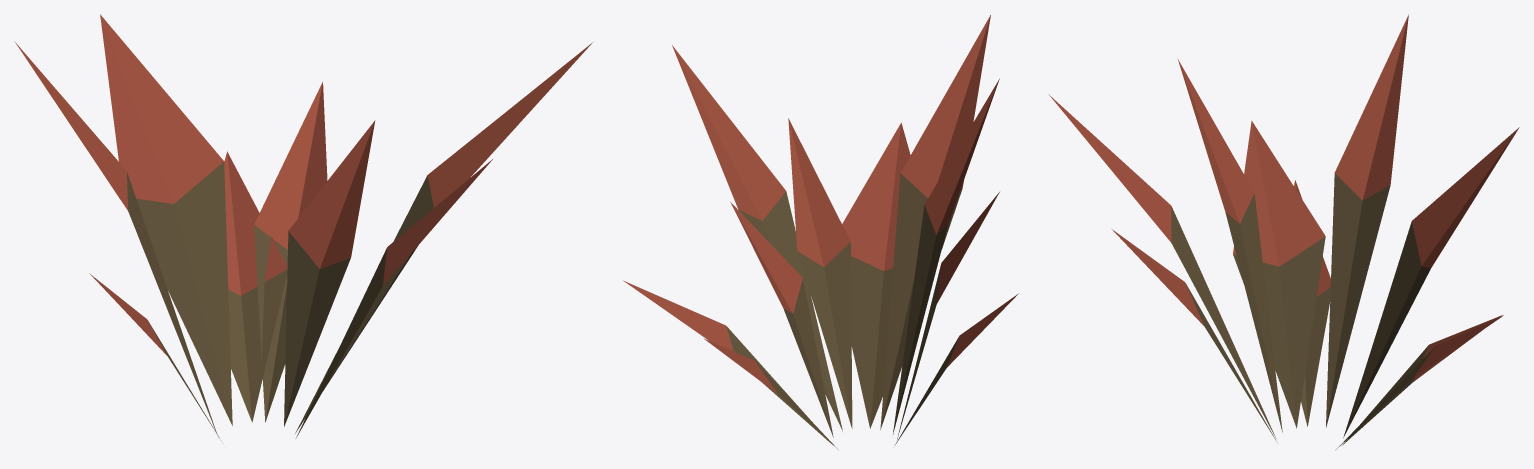
The model's file is ironleaf_scrub.glb.
3 renders of one model, left to right at view 1: azimuth 30°, elevation 25°; view 2: azimuth 150°, elevation 25°; view 3: azimuth 270°, elevation 25°, orthographic. The views are drawn at different scales.
Visible parts, largest first — view 1: ironleaf_scrub; view 2: ironleaf_scrub; view 3: ironleaf_scrub.
Part boxes in pixels (box(x1,y1,x2,y2)): ironleaf_scrub: box(15, 14, 592, 441); ironleaf_scrub: box(623, 15, 1018, 449); ironleaf_scrub: box(1048, 14, 1519, 450).
Size of the model in its own units: 0.7868 by 0.6436 by 0.7892.
